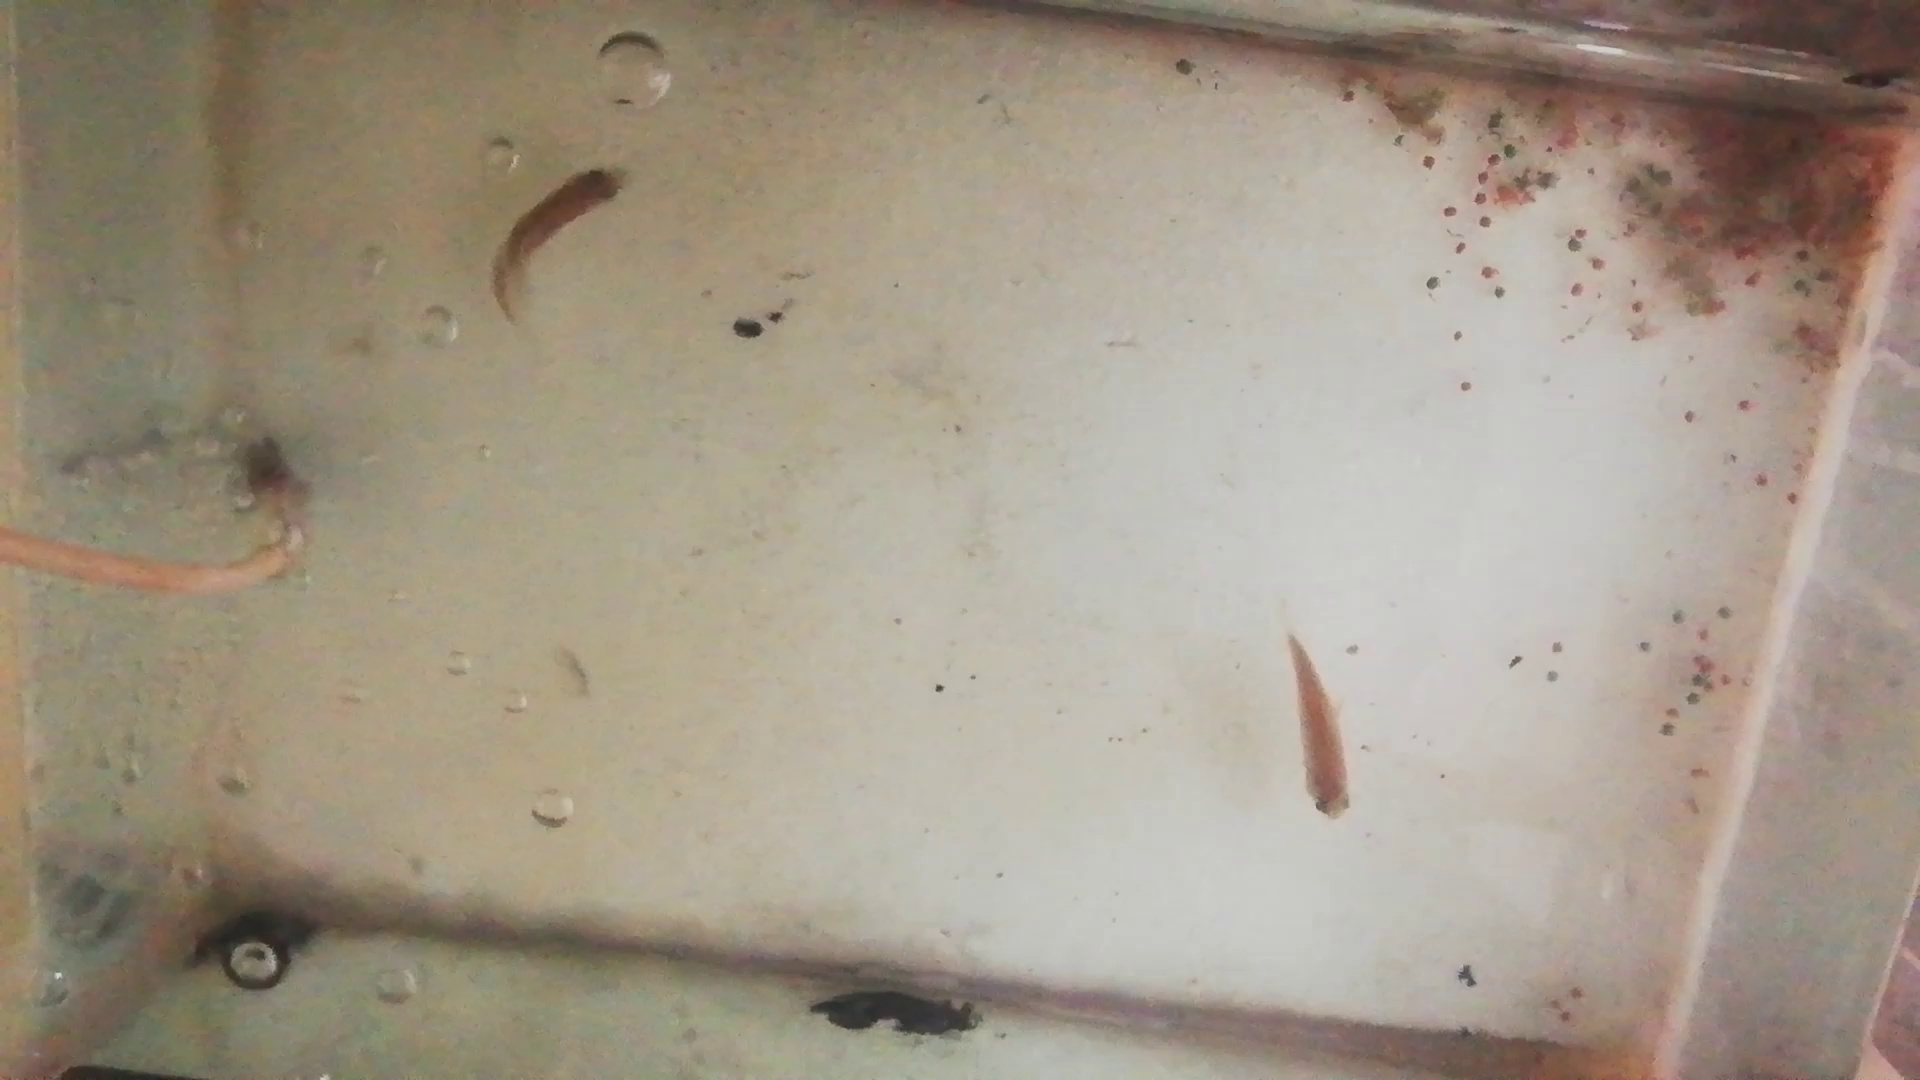fish: (488, 167, 638, 320), (1287, 642, 1352, 819)
